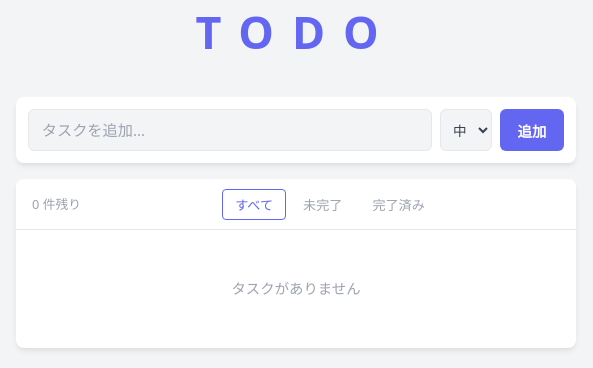
it: App › タスクが localStorage に保存される
Type "保存されるタスク" into the field named "新しいタスク" at (230, 130), box [28,109,432,151]
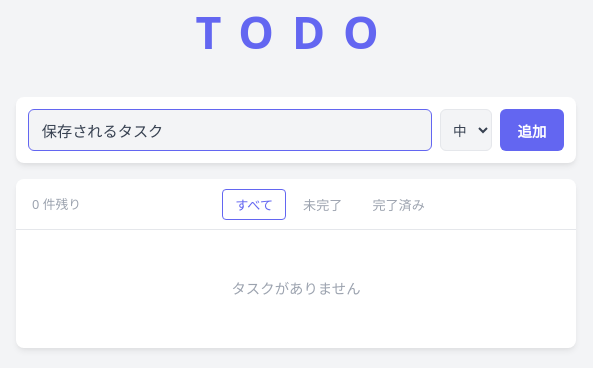
Select "中" in the dropdown named "優先度" at (466, 130), box [440,109,492,151]
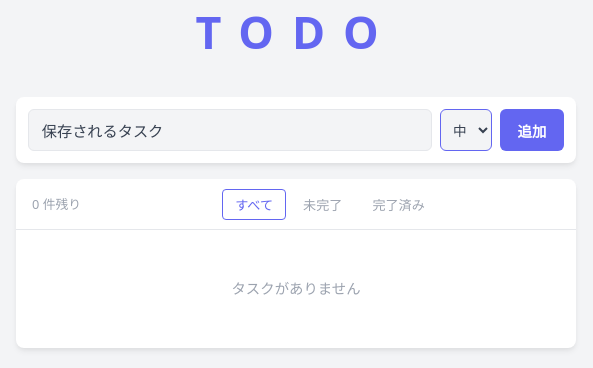
Click the button "追加" at (532, 130), box [500,109,564,151]
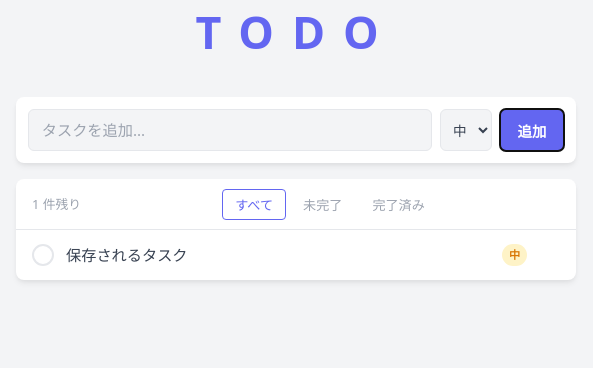
Expected: the text "保存されるタスク" is shown, [66,245,188,265]
